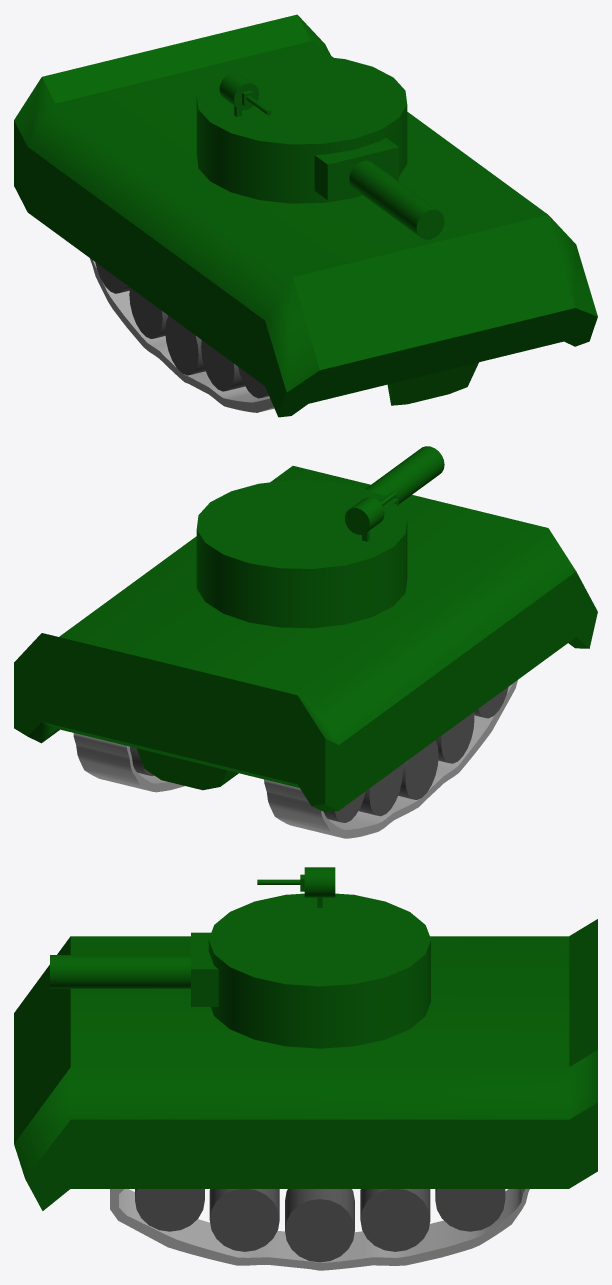
File: tank.fbx
3 renders of one model, top to bottom at view 1: azimuth 30°, elevation 25°; view 2: azimuth 150°, elevation 25°; view 3: azimuth 270°, elevation 25°, orthographic. The views are drawn at different scales.
Parts seen in each view (by area): view 1: Body, Turret, MainCannon, CaterpillarR, wheel2, wheel1, SubGun, wheel4; view 2: Body, Turret, CaterpillarR, CaterpillarL, MainCannon, wheel2, wheel4, SubGun, wheel1, wheel3; view 3: Body, Turret, CaterpillarL, MainCannon, wheel2, wheel1, wheel4, wheel3, wheel0, SubGun.
Boxes of the visible parts, <box> form: Body: <box>14,14,597,417</box>; Turret: <box>196,55,407,203</box>; MainCannon: <box>349,160,444,239</box>; CaterpillarR: <box>90,258,274,412</box>; wheel2: <box>165,316,205,375</box>; wheel1: <box>201,340,244,391</box>; SubGun: <box>219,72,271,116</box>; wheel4: <box>129,287,168,338</box>; Body: <box>14,466,597,812</box>; Turret: <box>196,480,407,628</box>; CaterpillarR: <box>264,680,517,838</box>; CaterpillarL: <box>73,733,184,792</box>; MainCannon: <box>365,446,444,503</box>; wheel2: <box>398,740,438,799</box>; wheel4: <box>358,765,402,816</box>; SubGun: <box>344,492,396,541</box>; wheel1: <box>435,712,474,763</box>; wheel3: <box>324,791,365,822</box>; Body: <box>14,919,597,1210</box>; Turret: <box>191,893,430,1048</box>; CaterpillarL: <box>110,1189,529,1270</box>; MainCannon: <box>50,955,190,988</box>; wheel2: <box>285,1189,354,1262</box>; wheel1: <box>209,1189,279,1251</box>; wheel4: <box>360,1189,430,1251</box>; wheel3: <box>435,1189,505,1231</box>; wheel0: <box>135,1189,204,1231</box>; SubGun: <box>257,867,335,907</box>.
Bounding box in the file's own units: 10.78 × 9.61 × 16.67.
